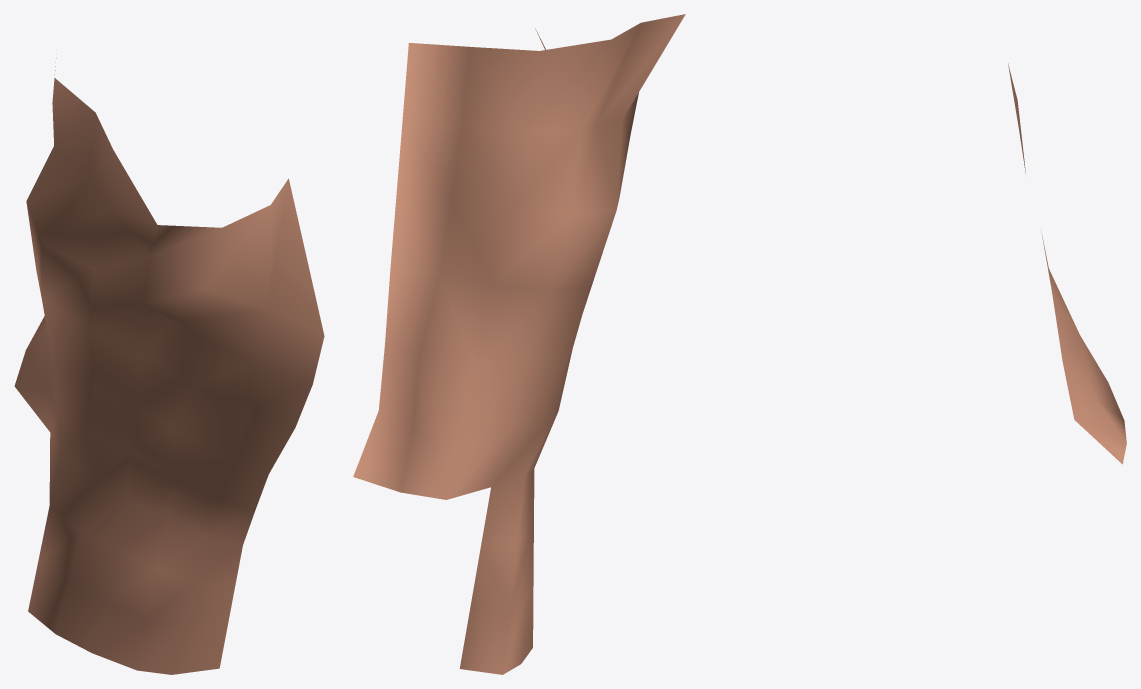
File: laryngopharynx.glb
3 views of the same model, side by side, from view 1: azimuth 30°, elevation 25°; view 2: azimuth 150°, elevation 25°; view 3: azimuth 270°, elevation 25° (orthographic). The views are drawn at different scales.
Parts seen in each view (by area): view 1: Laryngopharynx; view 2: Laryngopharynx; view 3: Laryngopharynx.
Part boxes in pixels (x1=…): Laryngopharynx: x1=14, y1=58, x2=324, y2=674; Laryngopharynx: x1=353, y1=14, x2=685, y2=674; Laryngopharynx: x1=1008, y1=63, x2=1126, y2=464.
Size of the model in its own units: 0.015 by 0.0543 by 0.0342.
